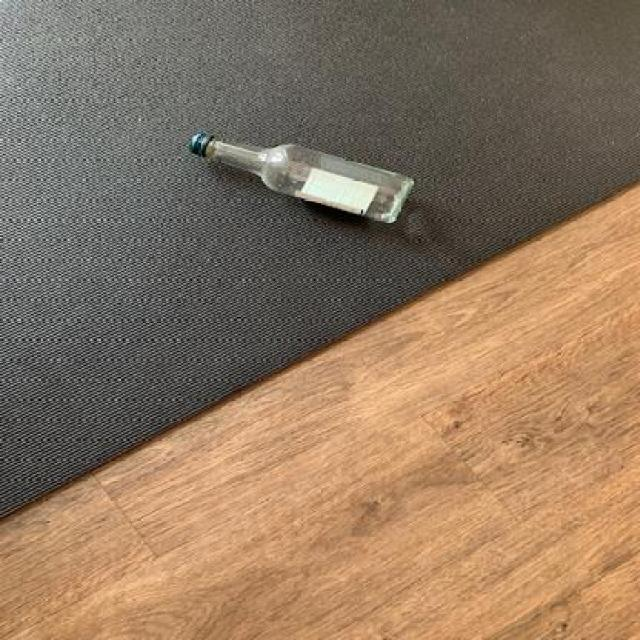trash: (188, 132, 415, 228)
